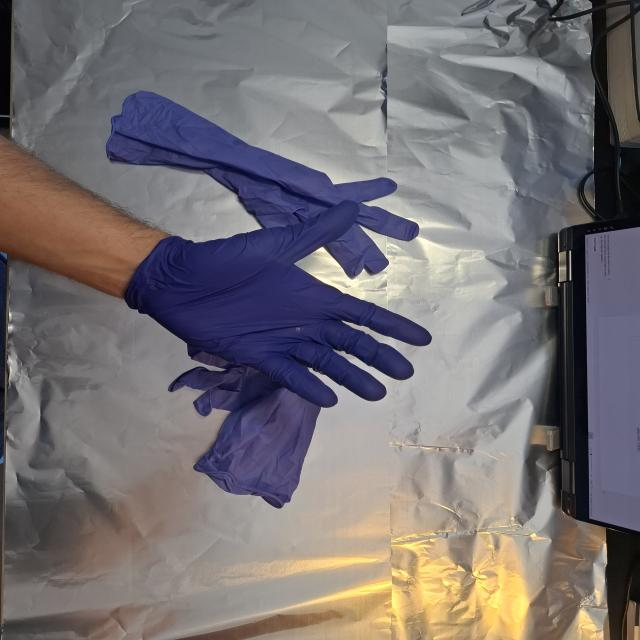glove_on: (122, 197, 435, 411)
